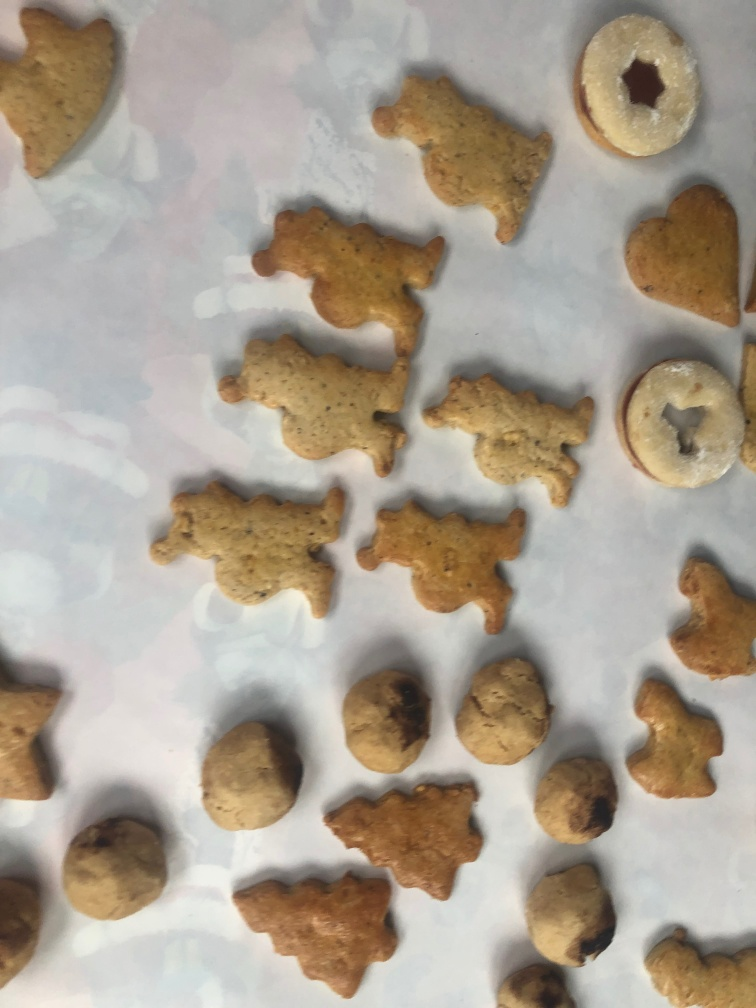christmas shortbread with jam: (568, 6, 703, 164), (617, 351, 742, 488)
christmas tree: (230, 855, 408, 1003), (320, 770, 491, 905)
heart: (623, 172, 755, 328)
lamb: (5, 4, 125, 175), (619, 660, 730, 810), (665, 546, 756, 675)
santa claus: (364, 52, 567, 249), (242, 189, 449, 353), (216, 325, 411, 486), (355, 482, 541, 633), (424, 356, 597, 506)
snowball: (59, 803, 167, 928), (194, 711, 308, 826), (517, 850, 619, 974), (453, 653, 555, 770), (338, 666, 438, 771), (527, 746, 625, 840), (491, 959, 581, 1007)
star: (2, 649, 69, 805)
